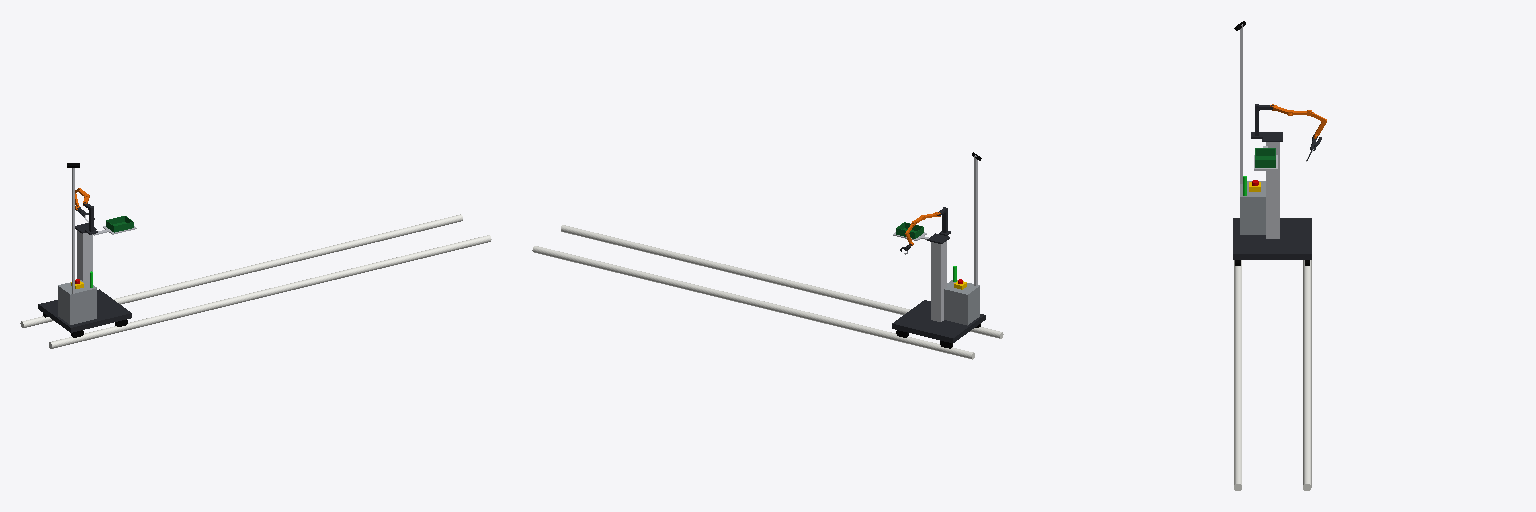
robot.urdf — agrobot:
<?xml version="1.0" ?>
<!-- =================================================================================== -->
<!-- |    This document was autogenerated by xacro from src/aibomech_agrobot/aibomech_agrobot_description/urdf/agrobot.urdf.xacro | -->
<!-- |    EDITING THIS FILE BY HAND IS NOT RECOMMENDED                                 | -->
<!-- =================================================================================== -->
<!--
  AIBOMECH AgroBot - complete robot cell.

  xacro agrobot.urdf.xacro hardware:=gz platform:=rail_trolley mount_height:=0.85
-->
<robot name="agrobot">
  <link name="world"/>
  <!-- Heating-pipe rail, fixed in the greenhouse -->
  <link name="rail">
    <inertial>
      <origin rpy="0 0 0" xyz="1.5 0 0.1"/>
      <mass value="50"/>
      <inertia ixx="0.6770833333333335" ixy="0" ixz="0" iyy="37.510416666666664" iyz="0" izz="38.166666666666664"/>
    </inertial>
    <visual name="pipe_left">
      <origin rpy="0 1.5707963267948966 0" xyz="1.4 0.2 0.1"/>
      <geometry>
        <cylinder length="3.6" radius="0.0255"/>
      </geometry>
      <material name="pipe_white">
        <color rgba="0.92 0.92 0.90 1"/>
      </material>
    </visual>
    <visual name="pipe_right">
      <origin rpy="0 1.5707963267948966 0" xyz="1.4 -0.2 0.1"/>
      <geometry>
        <cylinder length="3.6" radius="0.0255"/>
      </geometry>
      <material name="pipe_white">
        <color rgba="0.92 0.92 0.90 1"/>
      </material>
    </visual>
  </link>
  <joint name="rail_fixed_joint" type="fixed">
    <origin rpy="0 0 0" xyz="0 0 0"/>
    <parent link="world"/>
    <child link="rail"/>
  </joint>
  <link name="trolley">
    <inertial>
      <origin rpy="0 0 0" xyz="0 0 0.1955"/>
      <mass value="25.0"/>
      <inertia ixx="0.48770833333333335" ixy="0" ixz="0" iyy="0.5677083333333334" iyz="0" izz="0.9616666666666668"/>
    </inertial>
    <visual name="deck">
      <origin rpy="0 0 0" xyz="0 0 0.1955"/>
      <geometry>
        <box size="0.5 0.46 0.04"/>
      </geometry>
      <material name="graphite">
        <color rgba="0.20 0.21 0.23 1"/>
      </material>
    </visual>
    <collision name="deck">
      <origin rpy="0 0 0" xyz="0 0 0.1955"/>
      <geometry>
        <box size="0.5 0.46 0.04"/>
      </geometry>
    </collision>
    <visual name="cabinet">
      <origin rpy="0 0 0" xyz="-0.12 -0.10 0.3355"/>
      <geometry>
        <box size="0.22 0.18 0.24"/>
      </geometry>
      <material name="cabinet_grey">
        <color rgba="0.60 0.62 0.64 1"/>
      </material>
    </visual>
    <collision name="cabinet">
      <origin rpy="0 0 0" xyz="-0.12 -0.10 0.3355"/>
      <geometry>
        <box size="0.22 0.18 0.24"/>
      </geometry>
    </collision>
    <!-- Emergency stop button on the cabinet -->
    <visual name="estop_base">
      <origin rpy="0 0 0" xyz="-0.12 -0.10 0.47050000000000003"/>
      <geometry>
        <box size="0.07 0.07 0.03"/>
      </geometry>
      <material name="safety_yellow">
        <color rgba="1.00 0.80 0.00 1"/>
      </material>
    </visual>
    <visual name="estop_button">
      <origin rpy="0 0 0" xyz="-0.12 -0.10 0.49550000000000005"/>
      <geometry>
        <cylinder length="0.02" radius="0.02"/>
      </geometry>
      <material name="estop_red">
        <color rgba="0.85 0.05 0.05 1"/>
      </material>
    </visual>
    <!-- Signal tower -->
    <visual name="signal_tower">
      <origin rpy="0 0 0" xyz="-0.04 -0.16 0.5155"/>
      <geometry>
        <cylinder length="0.12" radius="0.012"/>
      </geometry>
      <material name="signal_green">
        <color rgba="0.10 0.85 0.20 1"/>
      </material>
    </visual>
    <visual>
      <origin rpy="1.5707963267948966 0 0" xyz="0.18 0.2 0.1455"/>
      <geometry>
        <cylinder length="0.03" radius="0.045"/>
      </geometry>
      <material name="black">
        <color rgba="0.06 0.06 0.06 1"/>
      </material>
    </visual>
    <visual>
      <origin rpy="1.5707963267948966 0 0" xyz="-0.18 0.2 0.1455"/>
      <geometry>
        <cylinder length="0.03" radius="0.045"/>
      </geometry>
      <material name="black">
        <color rgba="0.06 0.06 0.06 1"/>
      </material>
    </visual>
    <visual>
      <origin rpy="1.5707963267948966 0 0" xyz="0.18 -0.2 0.1455"/>
      <geometry>
        <cylinder length="0.03" radius="0.045"/>
      </geometry>
      <material name="black">
        <color rgba="0.06 0.06 0.06 1"/>
      </material>
    </visual>
    <visual>
      <origin rpy="1.5707963267948966 0 0" xyz="-0.18 -0.2 0.1455"/>
      <geometry>
        <cylinder length="0.03" radius="0.045"/>
      </geometry>
      <material name="black">
        <color rgba="0.06 0.06 0.06 1"/>
      </material>
    </visual>
  </link>
  <joint name="rail_joint" type="prismatic">
    <origin rpy="0 0 0" xyz="0 0 0"/>
    <parent link="rail"/>
    <child link="trolley"/>
    <axis xyz="1 0 0"/>
    <limit effort="200.0" lower="0.0" upper="3.0" velocity="0.3"/>
    <dynamics damping="20.0" friction="2.0"/>
    <safety_controller k_position="20" k_velocity="666.6666666666667" soft_lower_limit="0.01" soft_upper_limit="2.99"/>
  </joint>
  <link name="lift_column">
    <inertial>
      <origin rpy="0 0 0" xyz="0 0 0.31224999999999997"/>
      <mass value="6.0"/>
      <inertia ixx="0.19820012499999998" ixy="0" ixz="0" iyy="0.19820012499999998" iyz="0" izz="0.0064"/>
    </inertial>
    <visual name="column">
      <origin rpy="0 0 0" xyz="0 0 0.31224999999999997"/>
      <geometry>
        <box size="0.08 0.08 0.6244999999999999"/>
      </geometry>
      <material name="aluminium">
        <color rgba="0.76 0.77 0.79 1"/>
      </material>
    </visual>
    <collision name="column">
      <origin rpy="0 0 0" xyz="0 0 0.31224999999999997"/>
      <geometry>
        <box size="0.08 0.08 0.6244999999999999"/>
      </geometry>
    </collision>
    <visual name="top_plate">
      <origin rpy="0 0 0" xyz="0 0 0.6295"/>
      <geometry>
        <box size="0.12 0.12 0.01"/>
      </geometry>
      <material name="graphite">
        <color rgba="0.20 0.21 0.23 1"/>
      </material>
    </visual>
    <collision name="top_plate">
      <origin rpy="0 0 0" xyz="0 0 0.6295"/>
      <geometry>
        <box size="0.12 0.12 0.01"/>
      </geometry>
    </collision>
    <visual name="crate_bracket">
      <origin rpy="0 0 0" xyz="0.10 -0.04 0.5884999999999999"/>
      <geometry>
        <box size="0.12 0.03 0.008"/>
      </geometry>
      <material name="aluminium">
        <color rgba="0.76 0.77 0.79 1"/>
      </material>
    </visual>
    <collision name="crate_bracket">
      <origin rpy="0 0 0" xyz="0.10 -0.04 0.5884999999999999"/>
      <geometry>
        <box size="0.12 0.03 0.008"/>
      </geometry>
    </collision>
    <visual name="shelf">
      <origin rpy="0 0 0" xyz="0.26 -0.04 0.5884999999999999"/>
      <geometry>
        <box size="0.20 0.14 0.008"/>
      </geometry>
      <material name="aluminium">
        <color rgba="0.76 0.77 0.79 1"/>
      </material>
    </visual>
    <collision name="shelf">
      <origin rpy="0 0 0" xyz="0.26 -0.04 0.5884999999999999"/>
      <geometry>
        <box size="0.20 0.14 0.008"/>
      </geometry>
    </collision>
    <visual name="crate_floor">
      <origin rpy="0 0 0" xyz="0.26 -0.04 0.5944999999999999"/>
      <geometry>
        <box size="0.16 0.12 0.004"/>
      </geometry>
      <material name="crate_green">
        <color rgba="0.10 0.45 0.20 1"/>
      </material>
    </visual>
    <collision name="crate_floor">
      <origin rpy="0 0 0" xyz="0.26 -0.04 0.5944999999999999"/>
      <geometry>
        <box size="0.16 0.12 0.004"/>
      </geometry>
    </collision>
    <visual name="crate_wall_n">
      <origin rpy="0 0 0" xyz="0.26 0.018000000000000002 0.6189999999999999"/>
      <geometry>
        <box size="0.16 0.004 0.045"/>
      </geometry>
      <material name="crate_green">
        <color rgba="0.10 0.45 0.20 1"/>
      </material>
    </visual>
    <collision name="crate_wall_n">
      <origin rpy="0 0 0" xyz="0.26 0.018000000000000002 0.6189999999999999"/>
      <geometry>
        <box size="0.16 0.004 0.045"/>
      </geometry>
    </collision>
    <visual name="crate_wall_s">
      <origin rpy="0 0 0" xyz="0.26 -0.098 0.6189999999999999"/>
      <geometry>
        <box size="0.16 0.004 0.045"/>
      </geometry>
      <material name="crate_green">
        <color rgba="0.10 0.45 0.20 1"/>
      </material>
    </visual>
    <collision name="crate_wall_s">
      <origin rpy="0 0 0" xyz="0.26 -0.098 0.6189999999999999"/>
      <geometry>
        <box size="0.16 0.004 0.045"/>
      </geometry>
    </collision>
    <visual name="crate_wall_e">
      <origin rpy="0 0 0" xyz="0.338 -0.04 0.6189999999999999"/>
      <geometry>
        <box size="0.004 0.12 0.045"/>
      </geometry>
      <material name="crate_green">
        <color rgba="0.10 0.45 0.20 1"/>
      </material>
    </visual>
    <collision name="crate_wall_e">
      <origin rpy="0 0 0" xyz="0.338 -0.04 0.6189999999999999"/>
      <geometry>
        <box size="0.004 0.12 0.045"/>
      </geometry>
    </collision>
    <visual name="crate_wall_w">
      <origin rpy="0 0 0" xyz="0.182 -0.04 0.6189999999999999"/>
      <geometry>
        <box size="0.004 0.12 0.045"/>
      </geometry>
      <material name="crate_green">
        <color rgba="0.10 0.45 0.20 1"/>
      </material>
    </visual>
    <collision name="crate_wall_w">
      <origin rpy="0 0 0" xyz="0.182 -0.04 0.6189999999999999"/>
      <geometry>
        <box size="0.004 0.12 0.045"/>
      </geometry>
    </collision>
  </link>
  <joint name="lift_column_joint" type="fixed">
    <origin rpy="0 0 0" xyz="0 0 0.2155"/>
    <parent link="trolley"/>
    <child link="lift_column"/>
  </joint>
  <link name="arm_mount"/>
  <joint name="arm_mount_plate_joint" type="fixed">
    <origin rpy="0 0 0" xyz="0 0 0.6345"/>
    <parent link="lift_column"/>
    <child link="arm_mount"/>
  </joint>
  <link name="crate"/>
  <joint name="crate_joint" type="fixed">
    <origin rpy="0 0 0" xyz="0.26 -0.04 0.5964999999999999"/>
    <parent link="lift_column"/>
    <child link="crate"/>
  </joint>
  <joint name="arm_mount_joint" type="fixed">
    <origin rpy="0 0 -1.5707963267948966" xyz="5.541526766141773e-18 -0.0905 0"/>
    <parent link="arm_mount"/>
    <child link="base_link"/>
  </joint>
  <link name="base_link">
    <inertial>
      <origin rpy="0 0 0" xyz="-0.026053 0.081809 0.033589"/>
      <mass value="0.30992"/>
      <inertia ixx="0.0032328" ixy="-0.00016898" ixz="0.00067089" iyy="0.0019913" iyz="0.00085164" izz="0.002236"/>
    </inertial>
    <visual>
      <origin rpy="0 0 0" xyz="0 0 0"/>
      <geometry>
        <mesh filename="package://aibomech_agrobot_description/meshes/base_link.STL"/>
      </geometry>
      <material name="graphite">
        <color rgba="0.20 0.21 0.23 1"/>
      </material>
    </visual>
    <collision>
      <origin rpy="0 0 0" xyz="0.0 0.0 0.005"/>
      <geometry>
        <box size="0.065 0.065 0.01"/>
      </geometry>
    </collision>
    <collision>
      <origin rpy="0 0 0" xyz="-0.0012 0.0 0.105"/>
      <geometry>
        <box size="0.0274 0.03 0.19"/>
      </geometry>
    </collision>
    <collision>
      <origin rpy="0 0 0" xyz="-0.0445 0.0 0.1868"/>
      <geometry>
        <box size="0.114 0.03 0.0265"/>
      </geometry>
    </collision>
  </link>
  <link name="link_1">
    <inertial>
      <origin rpy="0 0 0" xyz="-0.091521 0.00658 0.0"/>
      <mass value="0.126691"/>
      <inertia ixx="2.1228e-05" ixy="-2.1359e-05" ixz="4.3792e-20" iyy="0.00020892" iyz="-3.2393e-21" izz="0.00021411"/>
    </inertial>
    <visual>
      <origin rpy="0 0 0" xyz="0 0 0"/>
      <geometry>
        <mesh filename="package://aibomech_agrobot_description/meshes/link_1.STL"/>
      </geometry>
      <material name="agro_orange">
        <color rgba="0.93 0.45 0.07 1"/>
      </material>
    </visual>
    <collision>
      <origin rpy="0 0 0" xyz="-0.06 0.0125 0.0"/>
      <geometry>
        <box size="0.142 0.025 0.03"/>
      </geometry>
    </collision>
  </link>
  <link name="link_2">
    <inertial>
      <origin rpy="0 0 0" xyz="-0.092119 0.012812 -0.0"/>
      <mass value="0.128494"/>
      <inertia ixx="1.6446e-05" ixy="1.1133e-06" ixz="1.7062e-20" iyy="0.0002116" iyz="-2.3356e-22" izz="0.00021285"/>
    </inertial>
    <visual>
      <origin rpy="0 0 0" xyz="0 0 0"/>
      <geometry>
        <mesh filename="package://aibomech_agrobot_description/meshes/link_2.STL"/>
      </geometry>
      <material name="agro_orange">
        <color rgba="0.93 0.45 0.07 1"/>
      </material>
    </visual>
    <collision>
      <origin rpy="0 0 0" xyz="-0.062 0.013 0.0"/>
      <geometry>
        <box size="0.146 0.03 0.03"/>
      </geometry>
    </collision>
  </link>
  <link name="link_3">
    <inertial>
      <origin rpy="0 0 0" xyz="-0.066151 -0.0 0.071691"/>
      <mass value="0.149855"/>
      <inertia ixx="0.00038087" ixy="-2.0456e-20" ixz="-3.5869e-05" iyy="0.00052704" iyz="-3.8463e-19" izz="0.00015793"/>
    </inertial>
    <visual>
      <origin rpy="0 0 0" xyz="0 0 0"/>
      <geometry>
        <mesh filename="package://aibomech_agrobot_description/meshes/link_3.STL"/>
      </geometry>
      <material name="agro_orange">
        <color rgba="0.93 0.45 0.07 1"/>
      </material>
    </visual>
    <collision>
      <origin rpy="0 0 0" xyz="-0.051 0.0 0.06"/>
      <geometry>
        <box size="0.124 0.03 0.14"/>
      </geometry>
    </collision>
  </link>
  <link name="link_4">
    <inertial>
      <origin rpy="0 0 0" xyz="-0.051725 0.075198 -0.0014"/>
      <mass value="0.083591"/>
      <inertia ixx="1.4679e-05" ixy="1.9855e-06" ixz="4.0528e-07" iyy="3.1218e-05" iyz="-1.8316e-07" izz="3.7434e-05"/>
    </inertial>
    <visual>
      <origin rpy="0 0 0" xyz="0 0 0"/>
      <geometry>
        <mesh filename="package://aibomech_agrobot_description/meshes/link_4.STL"/>
      </geometry>
      <material name="graphite">
        <color rgba="0.20 0.21 0.23 1"/>
      </material>
    </visual>
    <collision>
      <origin rpy="0 0 0" xyz="-0.0345 0.0712 0.0"/>
      <geometry>
        <box size="0.091 0.05 0.03"/>
      </geometry>
    </collision>
    <collision>
      <origin rpy="0 0 0" xyz="-0.1316 0.0702 -0.0238"/>
      <geometry>
        <box size="0.0585 0.005 0.0197"/>
      </geometry>
    </collision>
  </link>
  <link name="link_5">
    <inertial>
      <origin rpy="0 0 0" xyz="0.016259 0.041204 0.0025"/>
      <mass value="0.005123"/>
      <inertia ixx="3.115e-06" ixy="-4.3385e-07" ixz="3.7949e-12" iyy="2.6365e-07" iyz="5.7193e-12" izz="3.3573e-06"/>
    </inertial>
    <visual>
      <origin rpy="0 0 0" xyz="0 0 0"/>
      <geometry>
        <mesh filename="package://aibomech_agrobot_description/meshes/link_5.STL"/>
      </geometry>
      <material name="aluminium">
        <color rgba="0.76 0.77 0.79 1"/>
      </material>
    </visual>
    <collision>
      <origin rpy="0 0 0" xyz="0.0137 0.0429 0.0025"/>
      <geometry>
        <box size="0.0287 0.0858 0.005"/>
      </geometry>
    </collision>
  </link>
  <joint name="joint_1" type="revolute">
    <origin rpy="1.5708 0 -0.65897" xyz="-0.0905 0 0.1735"/>
    <parent link="base_link"/>
    <child link="link_1"/>
    <axis xyz="0 1 0"/>
    <limit effort="2.9" lower="-1.09" upper="2.1" velocity="2.0"/>
    <dynamics damping="0.1" friction="0.05"/>
    <safety_controller k_position="20" k_velocity="1.45" soft_lower_limit="-1.06" soft_upper_limit="2.0700000000000003"/>
  </joint>
  <joint name="joint_2" type="revolute">
    <origin rpy="0 0.60223 0" xyz="-0.12 0 0"/>
    <parent link="link_1"/>
    <child link="link_2"/>
    <axis xyz="0 1 0"/>
    <limit effort="2.9" lower="-2.1" upper="1.11" velocity="2.0"/>
    <dynamics damping="0.1" friction="0.05"/>
    <safety_controller k_position="20" k_velocity="1.45" soft_lower_limit="-2.0700000000000003" soft_upper_limit="1.08"/>
  </joint>
  <joint name="joint_3" type="revolute">
    <origin rpy="1.5708 0 0.49429" xyz="-0.12 0.013028 0"/>
    <parent link="link_2"/>
    <child link="link_3"/>
    <axis xyz="0 1 0"/>
    <limit effort="2.9" lower="-2.0" upper="1.1" velocity="2.0"/>
    <dynamics damping="0.1" friction="0.05"/>
    <safety_controller k_position="20" k_velocity="1.45" soft_lower_limit="-1.97" soft_upper_limit="1.07"/>
  </joint>
  <joint name="joint_4" type="revolute">
    <origin rpy="0 0.88733 1.5708" xyz="-0.041826 0 0.115"/>
    <parent link="link_3"/>
    <child link="link_4"/>
    <axis xyz="0 1 0"/>
    <limit effort="1.5" lower="-1.0" upper="2.3" velocity="3.0"/>
    <dynamics damping="0.05" friction="0.02"/>
    <safety_controller k_position="20" k_velocity="0.5" soft_lower_limit="-0.97" soft_upper_limit="2.27"/>
  </joint>
  <joint name="gripper_jaw_joint" type="prismatic">
    <origin rpy="-0.84443 -1.5708 2.4684" xyz="-0.075 0.080174 0"/>
    <parent link="link_4"/>
    <child link="link_5"/>
    <axis xyz="1 0 0"/>
    <limit effort="20.0" lower="-0.017" upper="0.01" velocity="0.05"/>
    <dynamics damping="0.5" friction="0.1"/>
    <safety_controller k_position="20" k_velocity="400.0" soft_lower_limit="-0.0165" soft_upper_limit="0.0095"/>
  </joint>
  <!-- Standard frames -->
  <link name="base"/>
  <joint name="base_link-base" type="fixed">
    <origin rpy="0 0 3.141592653589793" xyz="-0.0905 0 0"/>
    <parent link="base_link"/>
    <child link="base"/>
  </joint>
  <link name="flange"/>
  <joint name="link_4-flange" type="fixed">
    <origin rpy="0 -1.5707963267948966 0" xyz="-0.075 0.0725 0"/>
    <parent link="link_4"/>
    <child link="flange"/>
  </joint>
  <link name="tool0"/>
  <joint name="flange-tool0" type="fixed">
    <origin rpy="0 0 0" xyz="0 0 0"/>
    <parent link="flange"/>
    <child link="tool0"/>
  </joint>
  <!-- tcp: x = jaw closing direction, z = approach direction -->
  <link name="tcp"/>
  <joint name="link_4-tcp" type="fixed">
    <origin rpy="0 -1.5707963267948966 0" xyz="-0.135 0.0725 -0.008"/>
    <parent link="link_4"/>
    <child link="tcp"/>
  </joint>
  <link name="camera_mast">
    <visual>
      <origin rpy="0 0 0" xyz="0 0 0.11249999999999999"/>
      <geometry>
        <box size="0.02 0.02 1.015"/>
      </geometry>
      <material name="aluminium">
        <color rgba="0.76 0.77 0.79 1"/>
      </material>
    </visual>
    <collision>
      <origin rpy="0 0 0" xyz="0 0 0.11249999999999999"/>
      <geometry>
        <box size="0.02 0.02 1.015"/>
      </geometry>
    </collision>
    <inertial>
      <origin rpy="0 0 0" xyz="0 0 0.31"/>
      <mass value="0.3"/>
      <inertia ixx="0.009609999999999999" ixy="0" ixz="0" iyy="0.009609999999999999" iyz="0" izz="2e-5"/>
    </inertial>
  </link>
  <joint name="camera_mast_joint" type="fixed">
    <origin rpy="0 0 0" xyz="-0.20 -0.18 0"/>
    <parent link="arm_mount"/>
    <child link="camera_mast"/>
  </joint>
  <link name="camera_link">
    <visual>
      <origin rpy="0 0 0" xyz="-0.0125 0 0"/>
      <geometry>
        <box size="0.025 0.09 0.025"/>
      </geometry>
      <material name="black">
        <color rgba="0.06 0.06 0.06 1"/>
      </material>
    </visual>
    <collision>
      <origin rpy="0 0 0" xyz="-0.0125 0 0"/>
      <geometry>
        <box size="0.025 0.09 0.025"/>
      </geometry>
    </collision>
    <inertial>
      <origin rpy="0 0 0" xyz="-0.0125 0 0"/>
      <mass value="0.072"/>
      <inertia ixx="5.2e-5" ixy="0" ixz="0" iyy="7.5e-6" iyz="0" izz="5.2e-5"/>
    </inertial>
  </link>
  <joint name="camera_joint" type="fixed">
    <origin rpy="0 0.93 1.075" xyz="0 0 0.60"/>
    <parent link="camera_mast"/>
    <child link="camera_link"/>
  </joint>
  <link name="camera_color_optical_frame"/>
  <joint name="camera_optical_joint" type="fixed">
    <origin rpy="-1.5707963267948966 0 -1.5707963267948966" xyz="0 0 0"/>
    <parent link="camera_link"/>
    <child link="camera_color_optical_frame"/>
  </joint>
  <ros2_control name="AgrobotSystem" type="system">
    <hardware>
      <plugin>mock_components/GenericSystem</plugin>
      <param name="calculate_dynamics">true</param>
    </hardware>
    <joint name="joint_1">
      <command_interface name="position">
        <param name="min">-1.09</param>
        <param name="max">2.1</param>
      </command_interface>
      <state_interface name="position">
        <param name="initial_value">-0.97</param>
      </state_interface>
      <state_interface name="velocity"/>
    </joint>
    <joint name="joint_2">
      <command_interface name="position">
        <param name="min">-2.1</param>
        <param name="max">1.11</param>
      </command_interface>
      <state_interface name="position">
        <param name="initial_value">-2.0</param>
      </state_interface>
      <state_interface name="velocity"/>
    </joint>
    <joint name="joint_3">
      <command_interface name="position">
        <param name="min">-2.0</param>
        <param name="max">1.1</param>
      </command_interface>
      <state_interface name="position">
        <param name="initial_value">-1.12</param>
      </state_interface>
      <state_interface name="velocity"/>
    </joint>
    <joint name="joint_4">
      <command_interface name="position">
        <param name="min">-1.0</param>
        <param name="max">2.3</param>
      </command_interface>
      <state_interface name="position">
        <param name="initial_value">1.46</param>
      </state_interface>
      <state_interface name="velocity"/>
    </joint>
    <joint name="gripper_jaw_joint">
      <command_interface name="position">
        <param name="min">-0.017</param>
        <param name="max">0.01</param>
      </command_interface>
      <state_interface name="position">
        <param name="initial_value">0.01</param>
      </state_interface>
      <state_interface name="velocity"/>
    </joint>
    <joint name="rail_joint">
      <command_interface name="position">
        <param name="min">0.0</param>
        <param name="max">3.0</param>
      </command_interface>
      <state_interface name="position">
        <param name="initial_value">0.05</param>
      </state_interface>
      <state_interface name="velocity"/>
    </joint>
  </ros2_control>
</robot>

--- Render facts (derived) ---
Views: 3 orthographic renders of the robot side by side, from view 1: azimuth 30°, elevation 25°; view 2: azimuth 150°, elevation 25°; view 3: azimuth 270°, elevation 25°.
Model agrobot with 19 links and 18 joints (4 revolute, 2 prismatic, 12 fixed), rooted at world, posed all joints at 0.
Links seen in each view (by area): view 1: rail, trolley, lift_column; view 2: rail, trolley, lift_column; view 3: trolley, rail, lift_column.
Boxes of the visible links, x1=… form: rail: x1=20, y1=214, x2=491, y2=348; trolley: x1=38, y1=271, x2=131, y2=337; lift_column: x1=75, y1=216, x2=136, y2=281; rail: x1=532, y1=225, x2=1003, y2=359; trolley: x1=892, y1=266, x2=985, y2=348; lift_column: x1=893, y1=222, x2=949, y2=321; trolley: x1=1233, y1=176, x2=1311, y2=265; rail: x1=1234, y1=260, x2=1311, y2=490; lift_column: x1=1254, y1=132, x2=1282, y2=238.
Size in the robot's own frame: 3.6 by 0.5456 by 1.4 metres.
Meshes: 6 distinct files referenced, 6 mesh visuals loaded (6 binary STL).
